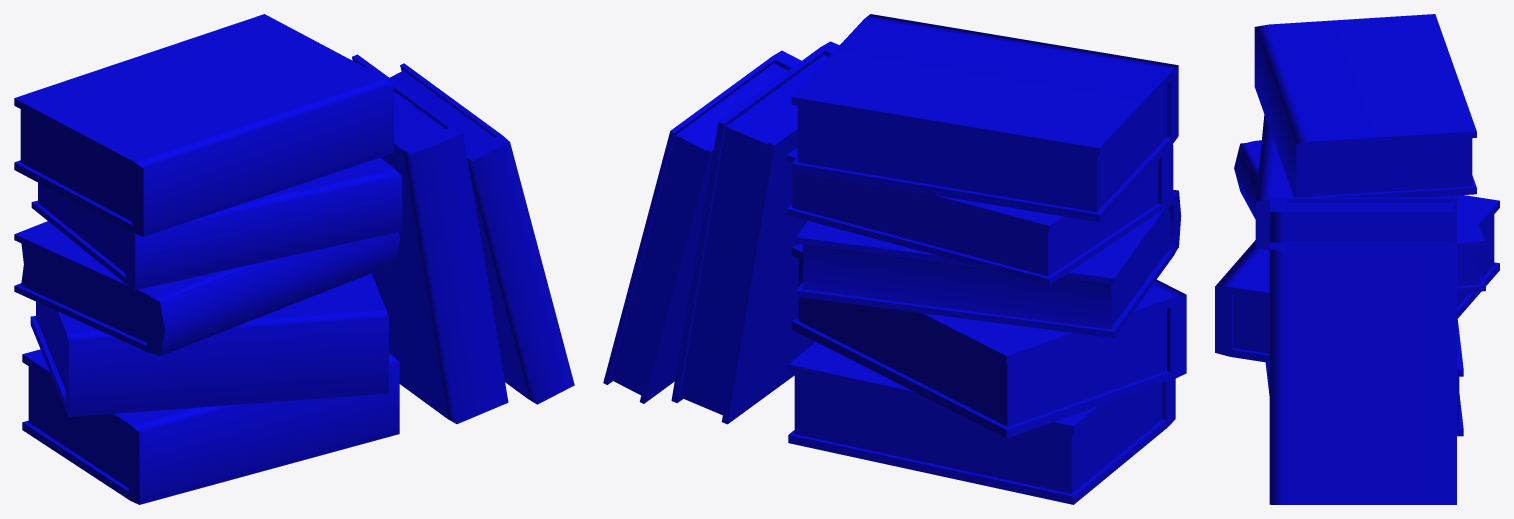
Rendered from BookStack_Large.fbx.
3 views of the same model, side by side, from view 1: azimuth 30°, elevation 25°; view 2: azimuth 150°, elevation 25°; view 3: azimuth 270°, elevation 25° (orthographic). The views are drawn at different scales.
Parts seen in each view (by area): view 1: BookStack_02_HP1; view 2: BookStack_02_HP1; view 3: BookStack_02_HP1.
Part boxes in pixels (x1,y1,x2,y2): BookStack_02_HP1: [14, 14, 574, 504]; BookStack_02_HP1: [603, 14, 1186, 504]; BookStack_02_HP1: [1215, 14, 1499, 504].
Size of the model in its own units: 13.84 by 9.4 by 8.07.
